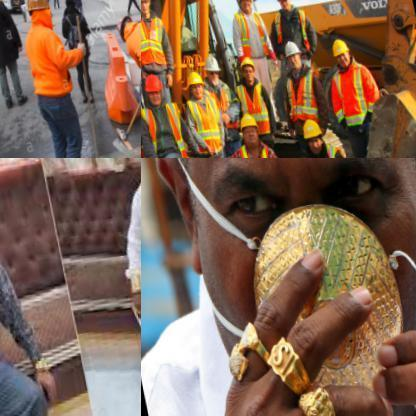vest: (327, 63, 375, 125), (141, 99, 188, 157), (231, 74, 272, 137), (183, 91, 223, 155), (281, 62, 321, 120), (231, 5, 269, 57), (271, 4, 311, 51), (141, 14, 172, 70), (205, 76, 235, 117), (296, 136, 346, 157), (235, 138, 279, 157)
